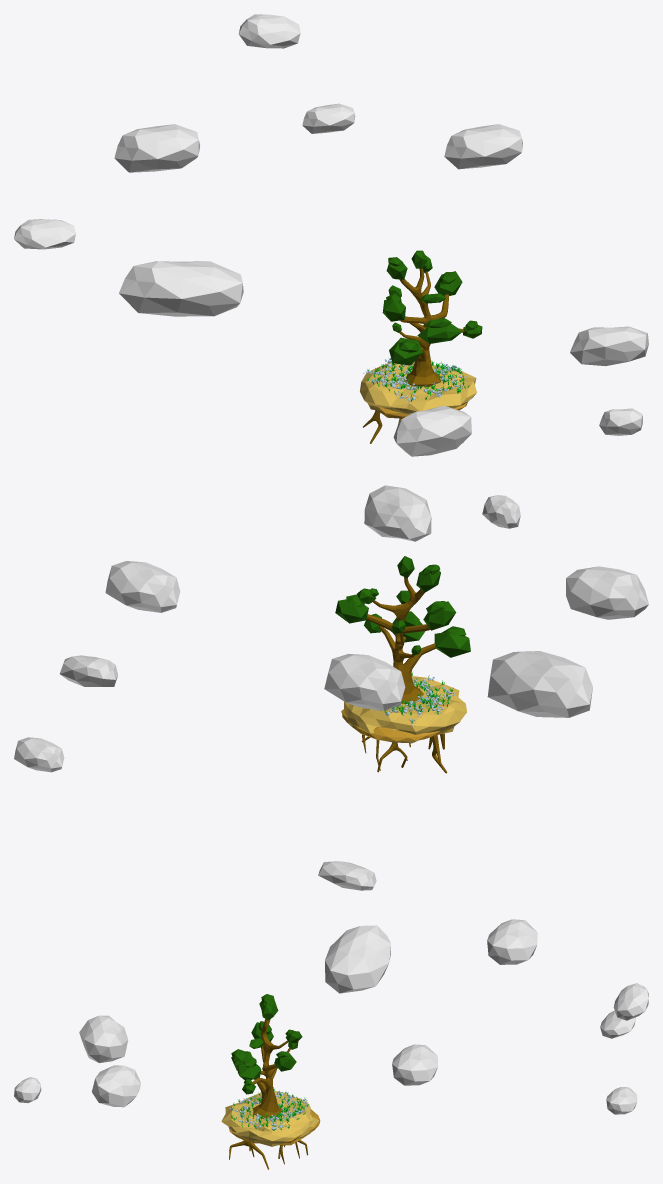
File: tree_landscape.glb
3 renders of one model, top to bottom at view 1: azimuth 30°, elevation 25°; view 2: azimuth 150°, elevation 25°; view 3: azimuth 270°, elevation 25°, orthographic. The views are drawn at different scales.
Parts seen in each view (by area): view 1: Icosphere.005, Ground_01, Tree_Leaf, Tree_Trunk; view 2: Icosphere.005, Tree_Leaf, Ground_01, Tree_Trunk, Ground_02, Tree_Root_0; view 3: Icosphere.005, Ground_01, Tree_Leaf, Tree_Trunk, Tree_Root_0.
Part boxes in pixels (x1=…): Icosphere.005: x1=14, y1=14, x2=648, y2=456; Ground_01: x1=360, y1=357, x2=476, y2=414; Tree_Leaf: x1=382, y1=250, x2=482, y2=365; Tree_Trunk: x1=398, y1=268, x2=464, y2=386; Icosphere.005: x1=14, y1=485, x2=648, y2=890; Tree_Leaf: x1=335, y1=556, x2=470, y2=657; Ground_01: x1=344, y1=672, x2=466, y2=743; Tree_Trunk: x1=366, y1=577, x2=436, y2=703; Ground_02: x1=341, y1=709, x2=460, y2=741; Tree_Root_0: x1=361, y1=733, x2=447, y2=773; Icosphere.005: x1=14, y1=919, x2=648, y2=1114; Ground_01: x1=221, y1=1087, x2=319, y2=1146; Tree_Leaf: x1=231, y1=994, x2=302, y2=1094; Tree_Trunk: x1=252, y1=1019, x2=290, y2=1118; Tree_Root_0: x1=229, y1=1140, x2=308, y2=1169.
Bounding box in the file's own units: 7.15 × 3.92 × 11.3.
